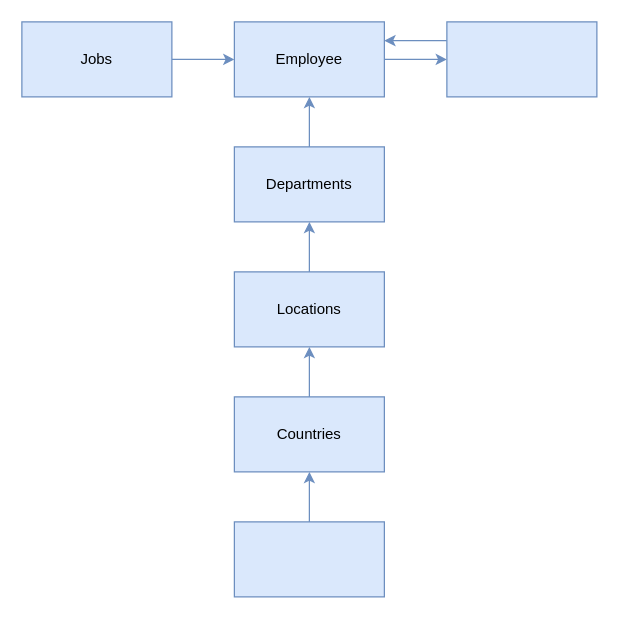
The diagram is 619 pixels wide and 619 high, and some of its shapes have lost their labels. The shapes that lost their labels are listed below. From the top down, each one's box as (x1, y1, x2, y2) in pixels, then its label:
(446, 21, 597, 97): Manager id (Employees(id))
(233, 521, 384, 597): Regions
